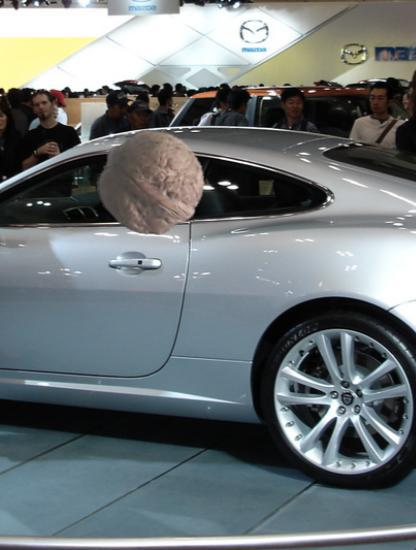Walnut: (98, 129, 206, 237)
